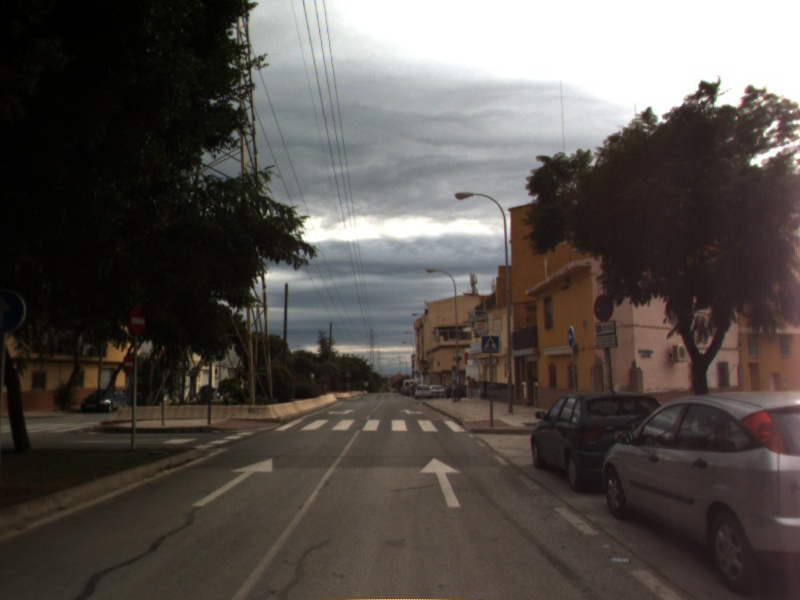STRAIGHT: (189, 456, 275, 508), (417, 455, 464, 510)
STRAIGHT_LEFT: (327, 406, 358, 417)
STRAIGHT_RIGHT: (399, 406, 425, 417)
